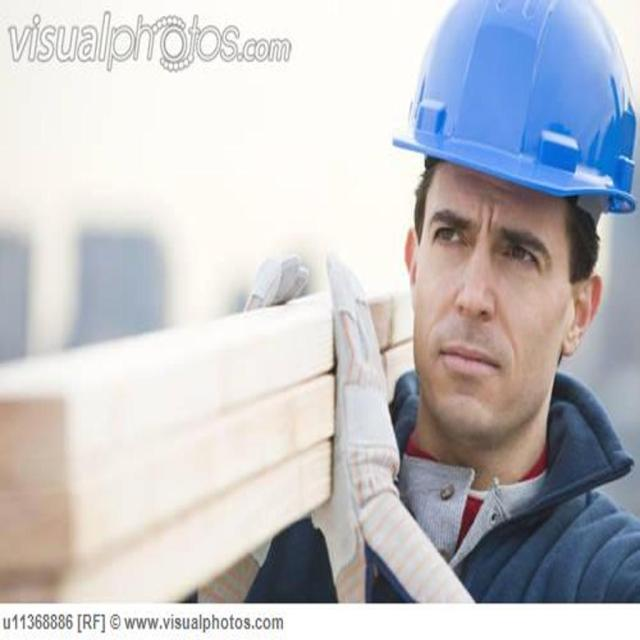Face: (414, 161, 582, 449)
